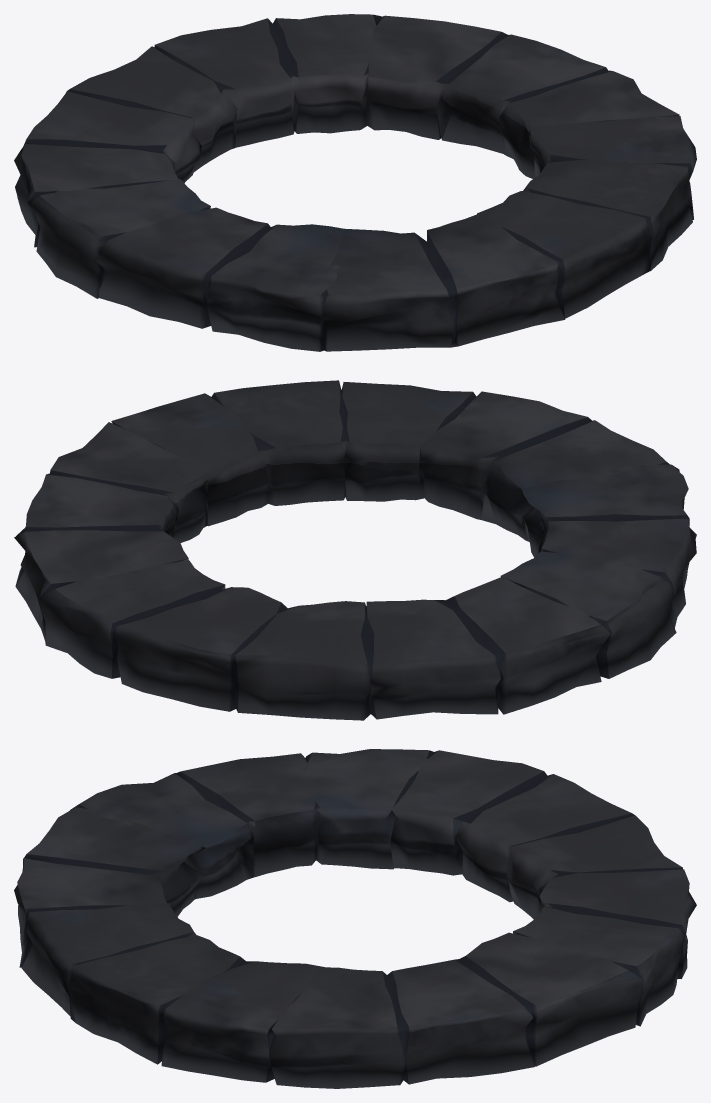
File: inner_floor.dae
3 renders of one model, top to bottom at view 1: azimuth 30°, elevation 25°; view 2: azimuth 150°, elevation 25°; view 3: azimuth 270°, elevation 25°, orthographic. The views are drawn at different scales.
Parts seen in each view (by area): view 1: Cube.019; view 2: Cube.019; view 3: Cube.019.
Boxes of the visible parts, left/top/right/bottom form: Cube.019: left=14, top=14, right=696, bottom=351; Cube.019: left=14, top=380, right=696, bottom=720; Cube.019: left=14, top=749, right=696, bottom=1088.
Size of the model in its own units: 5.19 by 5.16 by 0.4899.
1 material, 1 textured.
